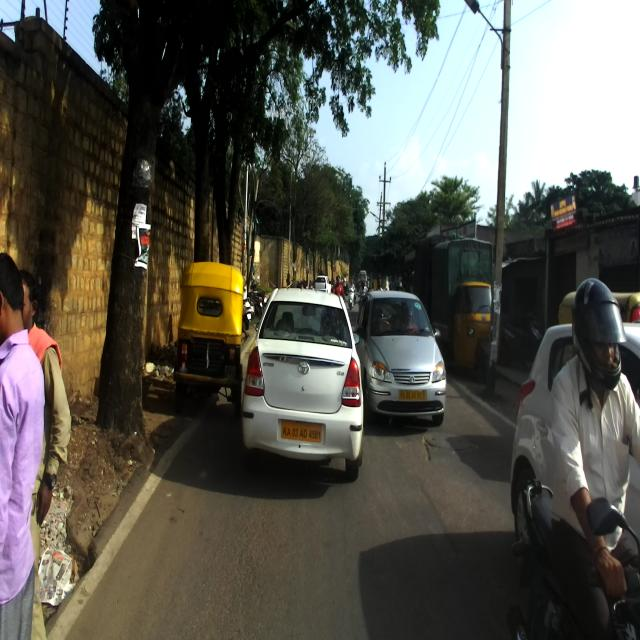auto ahead at: (177, 258, 245, 400)
car ahead at: (248, 282, 366, 496), (367, 293, 447, 423)
electric pole ahead at: (487, 0, 517, 405)
tree ahead at: (99, 48, 163, 463)
